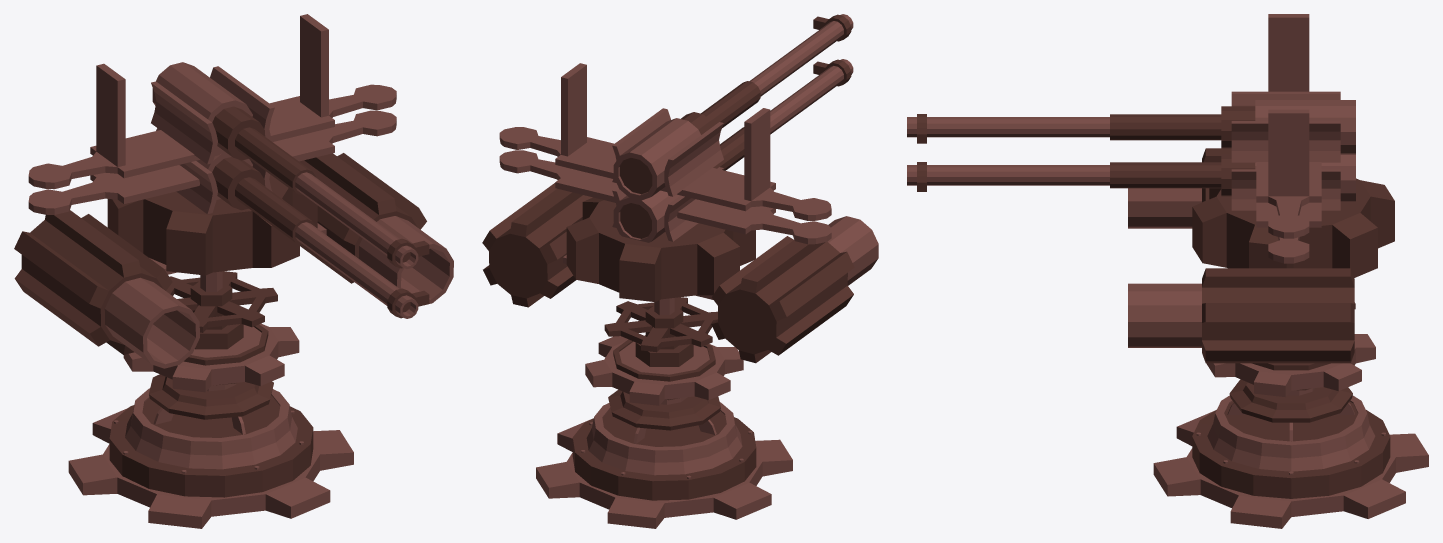
The model's file is cannon_4.glb.
The picture shows the model from 3 angles, left to right: view 1: azimuth 30°, elevation 25°; view 2: azimuth 150°, elevation 25°; view 3: azimuth 270°, elevation 25°; orthographic projection. The views are drawn at different scales.
Visible parts, largest first — view 1: Cannon_4_Gun_Cylinder.043, Cannon_4_Base_Cylinder.098, Cannon_4_Mid_Cylinder.044; view 2: Cannon_4_Gun_Cylinder.043, Cannon_4_Base_Cylinder.098, Cannon_4_Mid_Cylinder.044; view 3: Cannon_4_Gun_Cylinder.043, Cannon_4_Base_Cylinder.098, Cannon_4_Mid_Cylinder.044.
Boxes of the visible parts, bbox=[...] form: Cannon_4_Gun_Cylinder.043: bbox=[14, 14, 453, 368]; Cannon_4_Base_Cylinder.098: bbox=[68, 324, 353, 528]; Cannon_4_Mid_Cylinder.044: bbox=[123, 271, 299, 392]; Cannon_4_Gun_Cylinder.043: bbox=[482, 14, 878, 363]; Cannon_4_Base_Cylinder.098: bbox=[536, 339, 792, 528]; Cannon_4_Mid_Cylinder.044: bbox=[585, 297, 743, 405]; Cannon_4_Gun_Cylinder.043: bbox=[907, 14, 1394, 363]; Cannon_4_Base_Cylinder.098: bbox=[1153, 363, 1428, 528]; Cannon_4_Mid_Cylinder.044: bbox=[1206, 302, 1375, 397].
Bounding box in the file's own units: 2.02 × 2.26 × 2.61.
